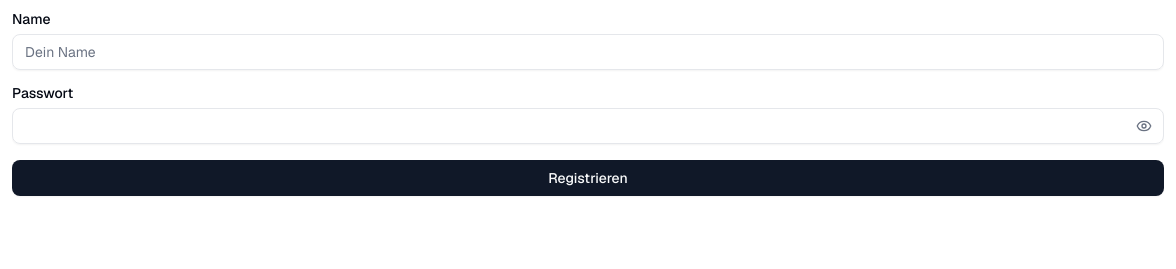
Test: SignupForm Component › should display server-side validation errors
Type "John" into the field labelled "Name" at (588, 52), box x1=12 y1=34 x2=1164 y2=70
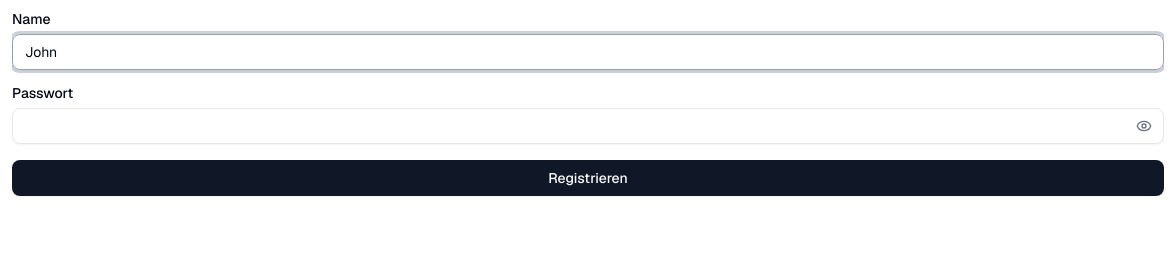
Type "password" into the password field labelled "Passwort" at (588, 126), box x1=12 y1=108 x2=1164 y2=144
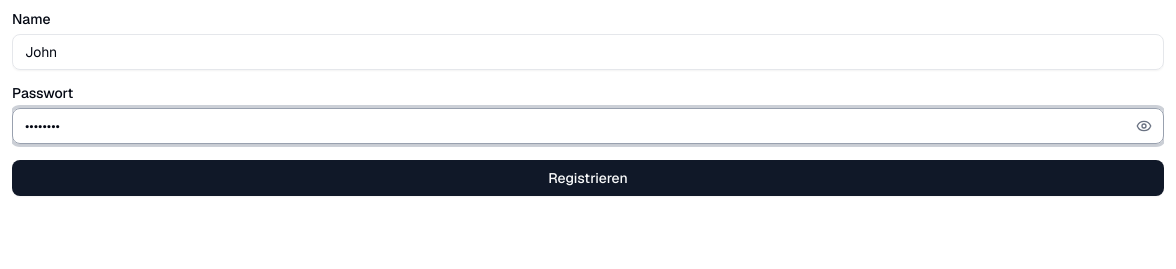
Click the button "Registrieren" at (588, 178), box x1=12 y1=160 x2=1164 y2=196
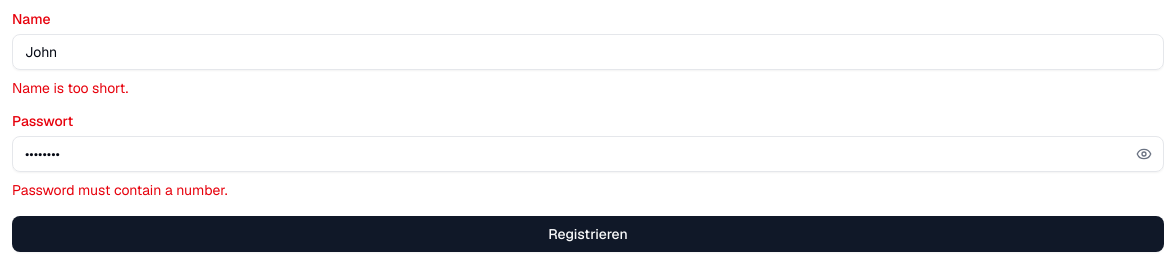
Expected: the text "Name is too short." is shown, x1=12 y1=79 x2=128 y2=97
Expected: the text "Password must contain a number." is shown, x1=12 y1=181 x2=228 y2=199
